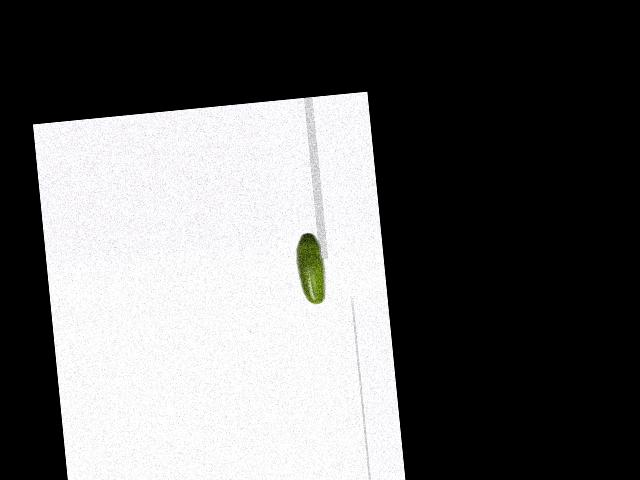cucumber: (293, 230, 328, 306)
